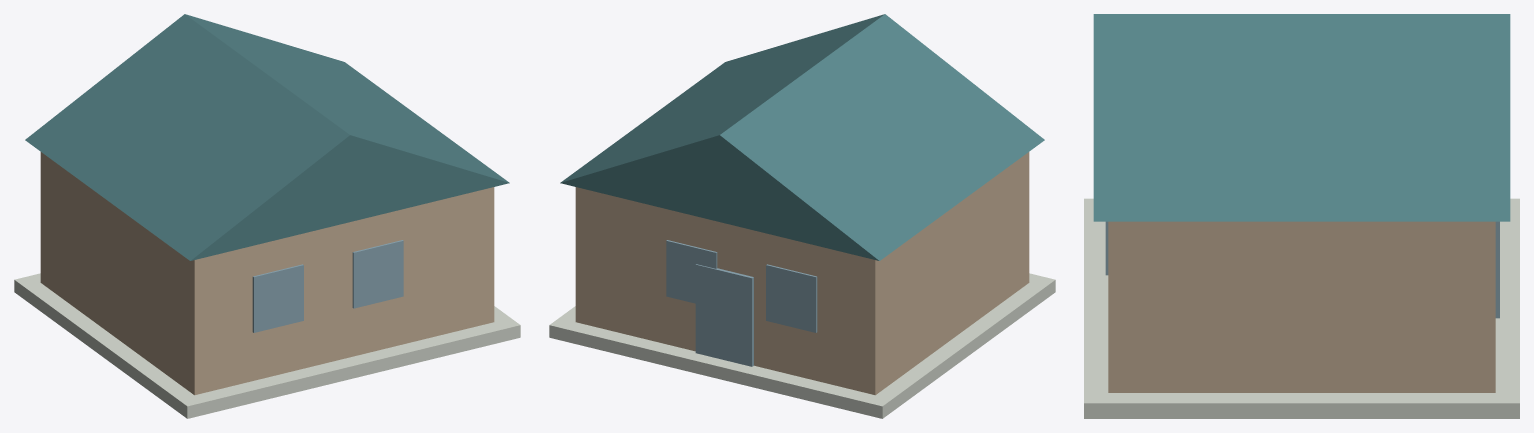
The model's file is mountain_cabin.glb.
3 views of the same model, side by side, from view 1: azimuth 30°, elevation 25°; view 2: azimuth 150°, elevation 25°; view 3: azimuth 270°, elevation 25° (orthographic). The views are drawn at different scales.
Visible parts, largest first — view 1: mountain_cabin__roof, mountain_cabin__walls, mountain_cabin__plinth, mountain_cabin__window.002, mountain_cabin__window; view 2: mountain_cabin__roof, mountain_cabin__walls, mountain_cabin__plinth, mountain_cabin__front_door, mountain_cabin__window.001, mountain_cabin__window.003; view 3: mountain_cabin__roof, mountain_cabin__walls, mountain_cabin__plinth.
Boxes of the visible parts, x1,y1,x2,y2 form: mountain_cabin__roof: [25, 14, 509, 260]; mountain_cabin__walls: [40, 152, 494, 395]; mountain_cabin__plinth: [14, 273, 520, 418]; mountain_cabin__window.002: [352, 240, 403, 308]; mountain_cabin__window: [252, 264, 303, 332]; mountain_cabin__roof: [560, 14, 1044, 260]; mountain_cabin__walls: [575, 152, 1029, 395]; mountain_cabin__plinth: [549, 273, 1055, 418]; mountain_cabin__front_door: [695, 264, 753, 366]; mountain_cabin__window.001: [766, 264, 817, 332]; mountain_cabin__window.003: [666, 240, 717, 303]; mountain_cabin__roof: [1093, 14, 1510, 221]; mountain_cabin__walls: [1108, 221, 1495, 392]; mountain_cabin__plinth: [1084, 198, 1519, 418].
Size of the model in its own units: 10 by 6.9 by 9.
